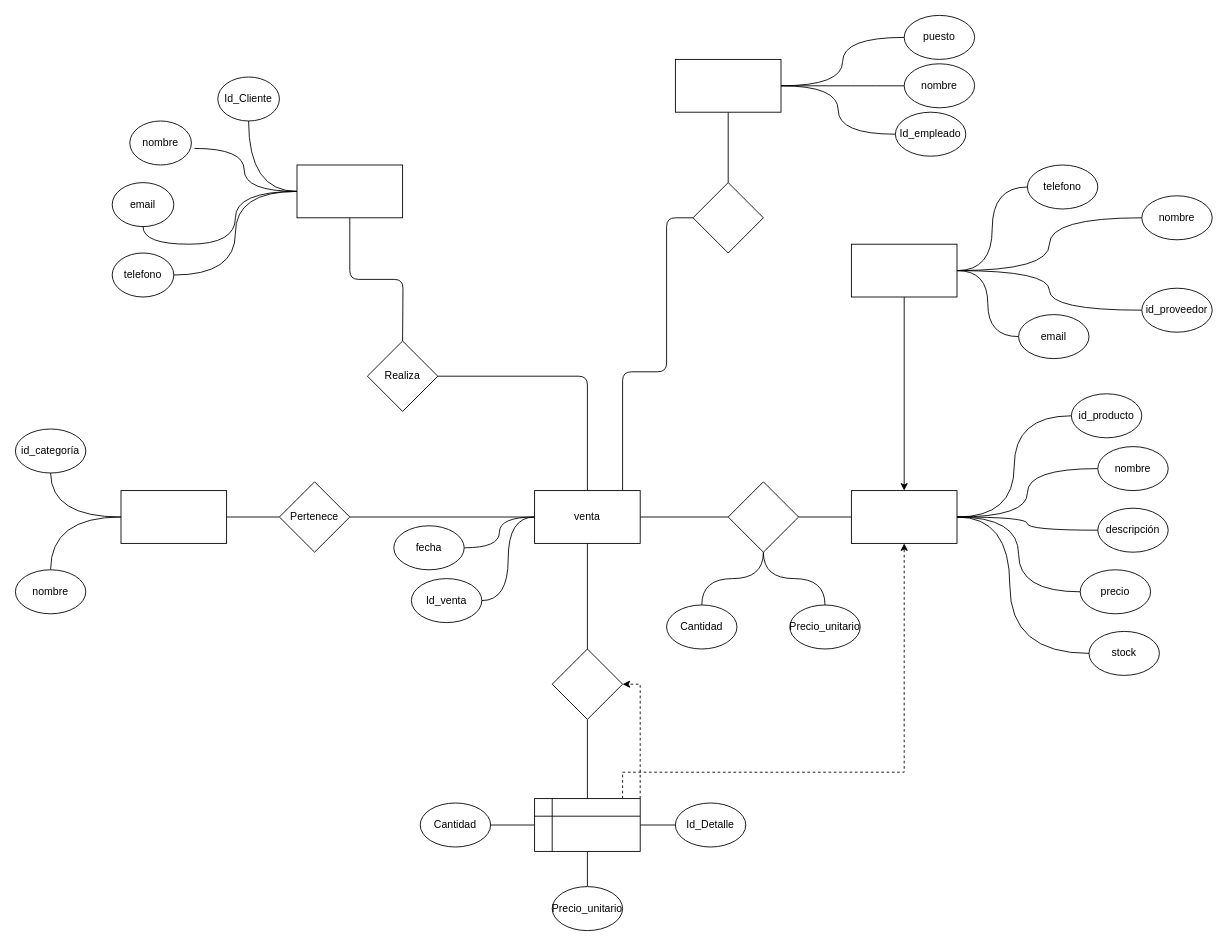
This 1228x946 diagram has some shape labels left out. Here are the shapes that lost their labels. From the top down, the centre of each, then its label:
At pixel 728 85: "Empleados".
At pixel 349 191: "Cliente".
At pixel 727 217: "Atiende".
At pixel 904 270: "proveedor".
At pixel 173 516: "Categoria".
At pixel 763 516: "Incluve".
At pixel 904 516: "producto".
At pixel 587 683: "Tiene".
At pixel 587 824: "Detalle_Venta".
